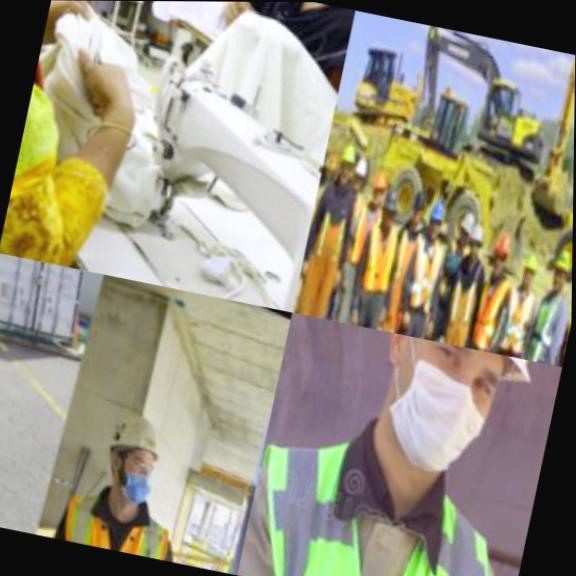safety_vest: (236, 388, 545, 576), (22, 463, 193, 563), (332, 207, 405, 303), (380, 222, 454, 315), (476, 264, 546, 357), (449, 255, 514, 353), (503, 278, 570, 364), (538, 289, 572, 365), (0, 252, 14, 328)
